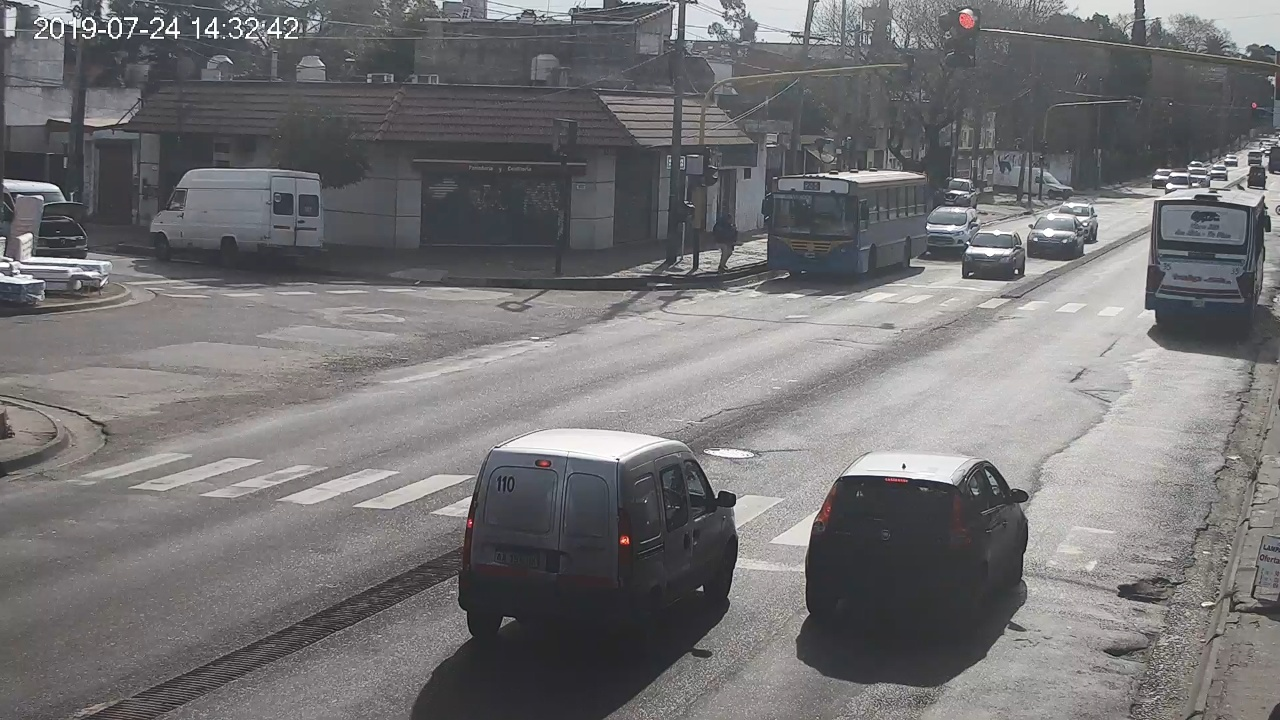bus: (1145, 188, 1271, 325)
car: (459, 428, 737, 639), (803, 452, 1031, 618)
front bus: (761, 169, 928, 280)
traffic light: (957, 8, 978, 66)
